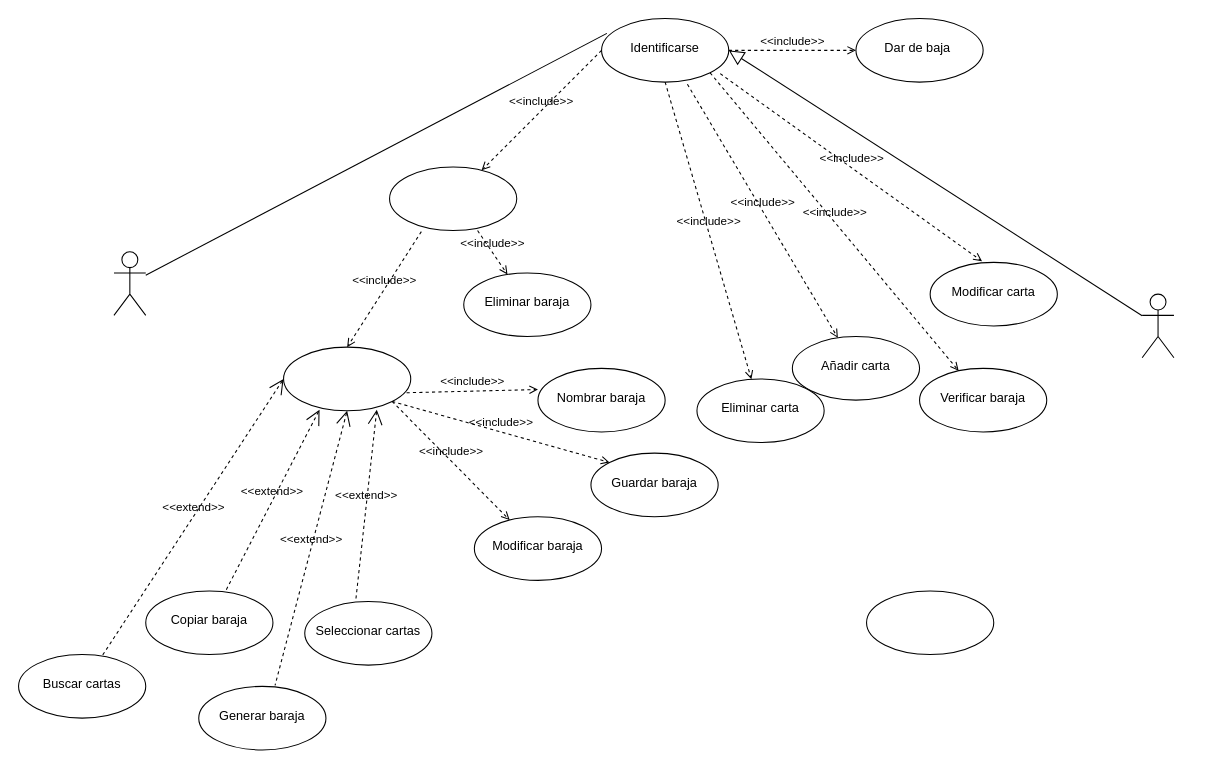
Image size: 1216x768. Some labels were removed from this diagram. The shapes that lost their labels are listed below. From the top down, each one's box as (x1, y1, x2, y2) in pixels, then its label:
(388, 166, 517, 231): Darse de alta
(113, 251, 146, 315): Jugador
(1141, 293, 1174, 358): Administrador
(282, 346, 411, 411): Crear baraja
(865, 590, 994, 655): Ver cartas
